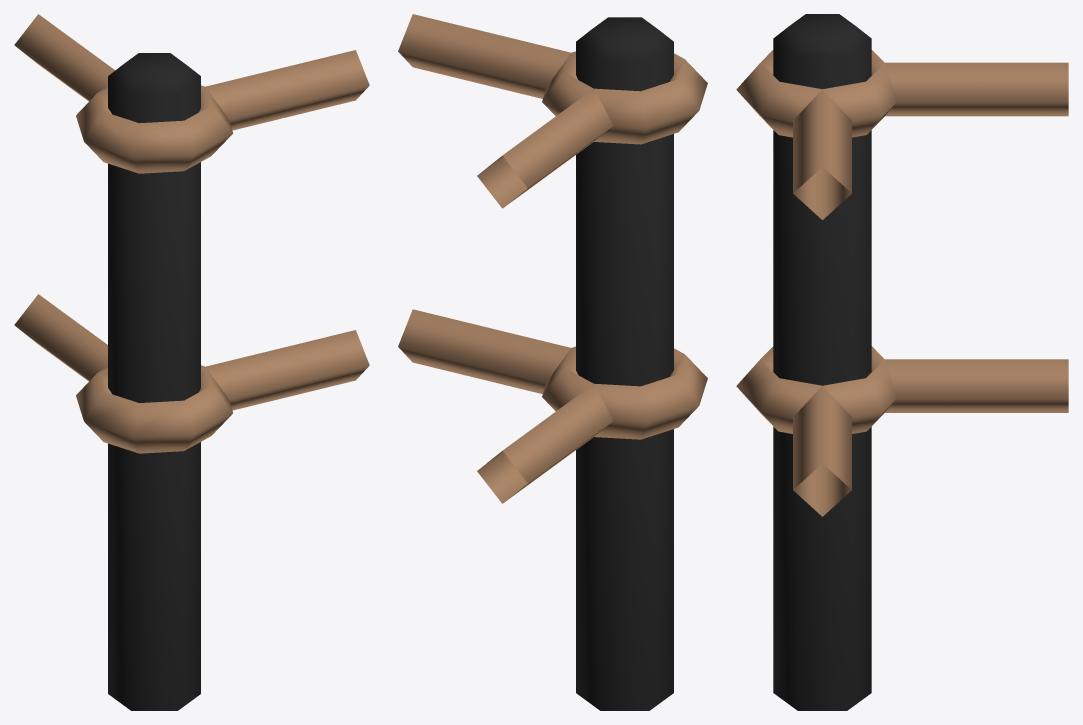
File: DI_075_076_railing_corner.glb
The picture shows the model from 3 angles, left to right: view 1: azimuth 30°, elevation 25°; view 2: azimuth 150°, elevation 25°; view 3: azimuth 270°, elevation 25°; orthographic projection. The views are drawn at different scales.
Visible parts, largest first — view 1: Pole.001, Knots.001, Ropes.002, Ropes.001; view 2: Pole.001, Ropes.002, Knots.001, Ropes.001; view 3: Pole.001, Ropes.001, Knots.001, Ropes.002.
Part boxes in pixels (x1,y1,x2,y2): Pole.001: (108,53,200,710); Knots.001: (76,85,233,453); Ropes.002: (206,50,369,410); Ropes.001: (14,14,114,381); Pole.001: (576,17,673,710); Ropes.002: (398,14,570,394); Knots.001: (542,51,707,439); Ropes.001: (477,88,613,503); Pole.001: (773,14,871,710); Ropes.001: (885,62,1068,412); Knots.001: (736,50,896,433); Ropes.002: (793,89,851,516).
Size of the model in its own units: 0.5065 by 1.12 by 0.5065.
